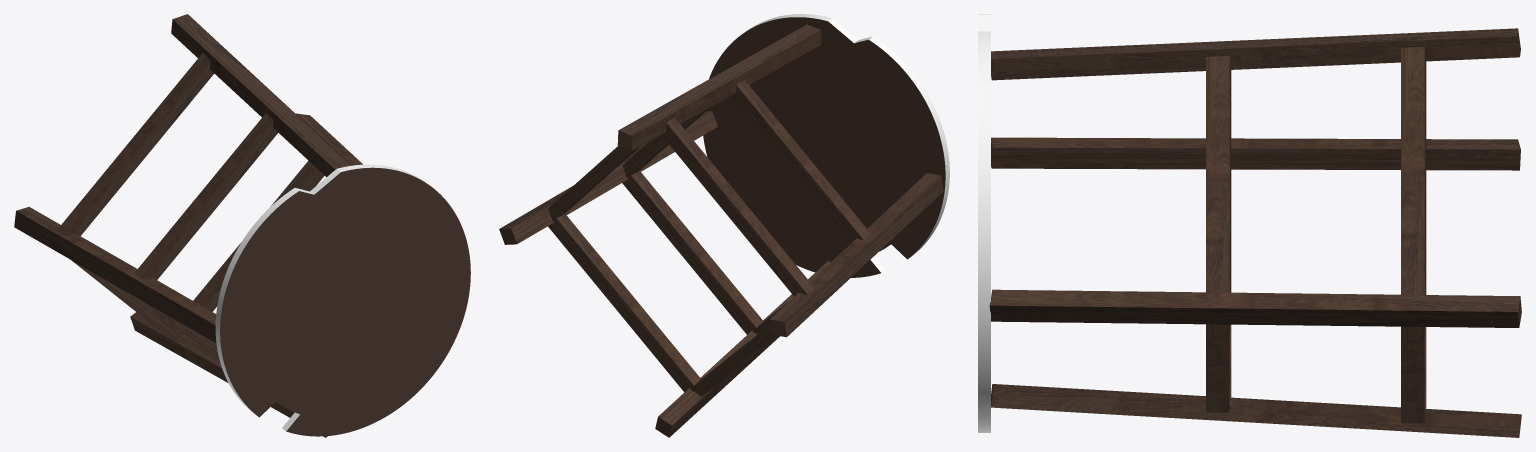
Rendered from Stool3.glb.
3 views of the same model, side by side, from view 1: azimuth 30°, elevation 25°; view 2: azimuth 150°, elevation 25°; view 3: azimuth 270°, elevation 25° (orthographic). The views are drawn at different scales.
Visible parts, largest first — view 1: Circle.007; view 2: Circle.007; view 3: Circle.007.
Boxes of the visible parts, x1,y1,x2,y2 form: Circle.007: (14, 14, 470, 437); Circle.007: (499, 14, 949, 437); Circle.007: (978, 14, 1521, 437).
Size of the model in its own units: 29.54 by 28.96 by 32.57.
2 materials, 1 textured.
